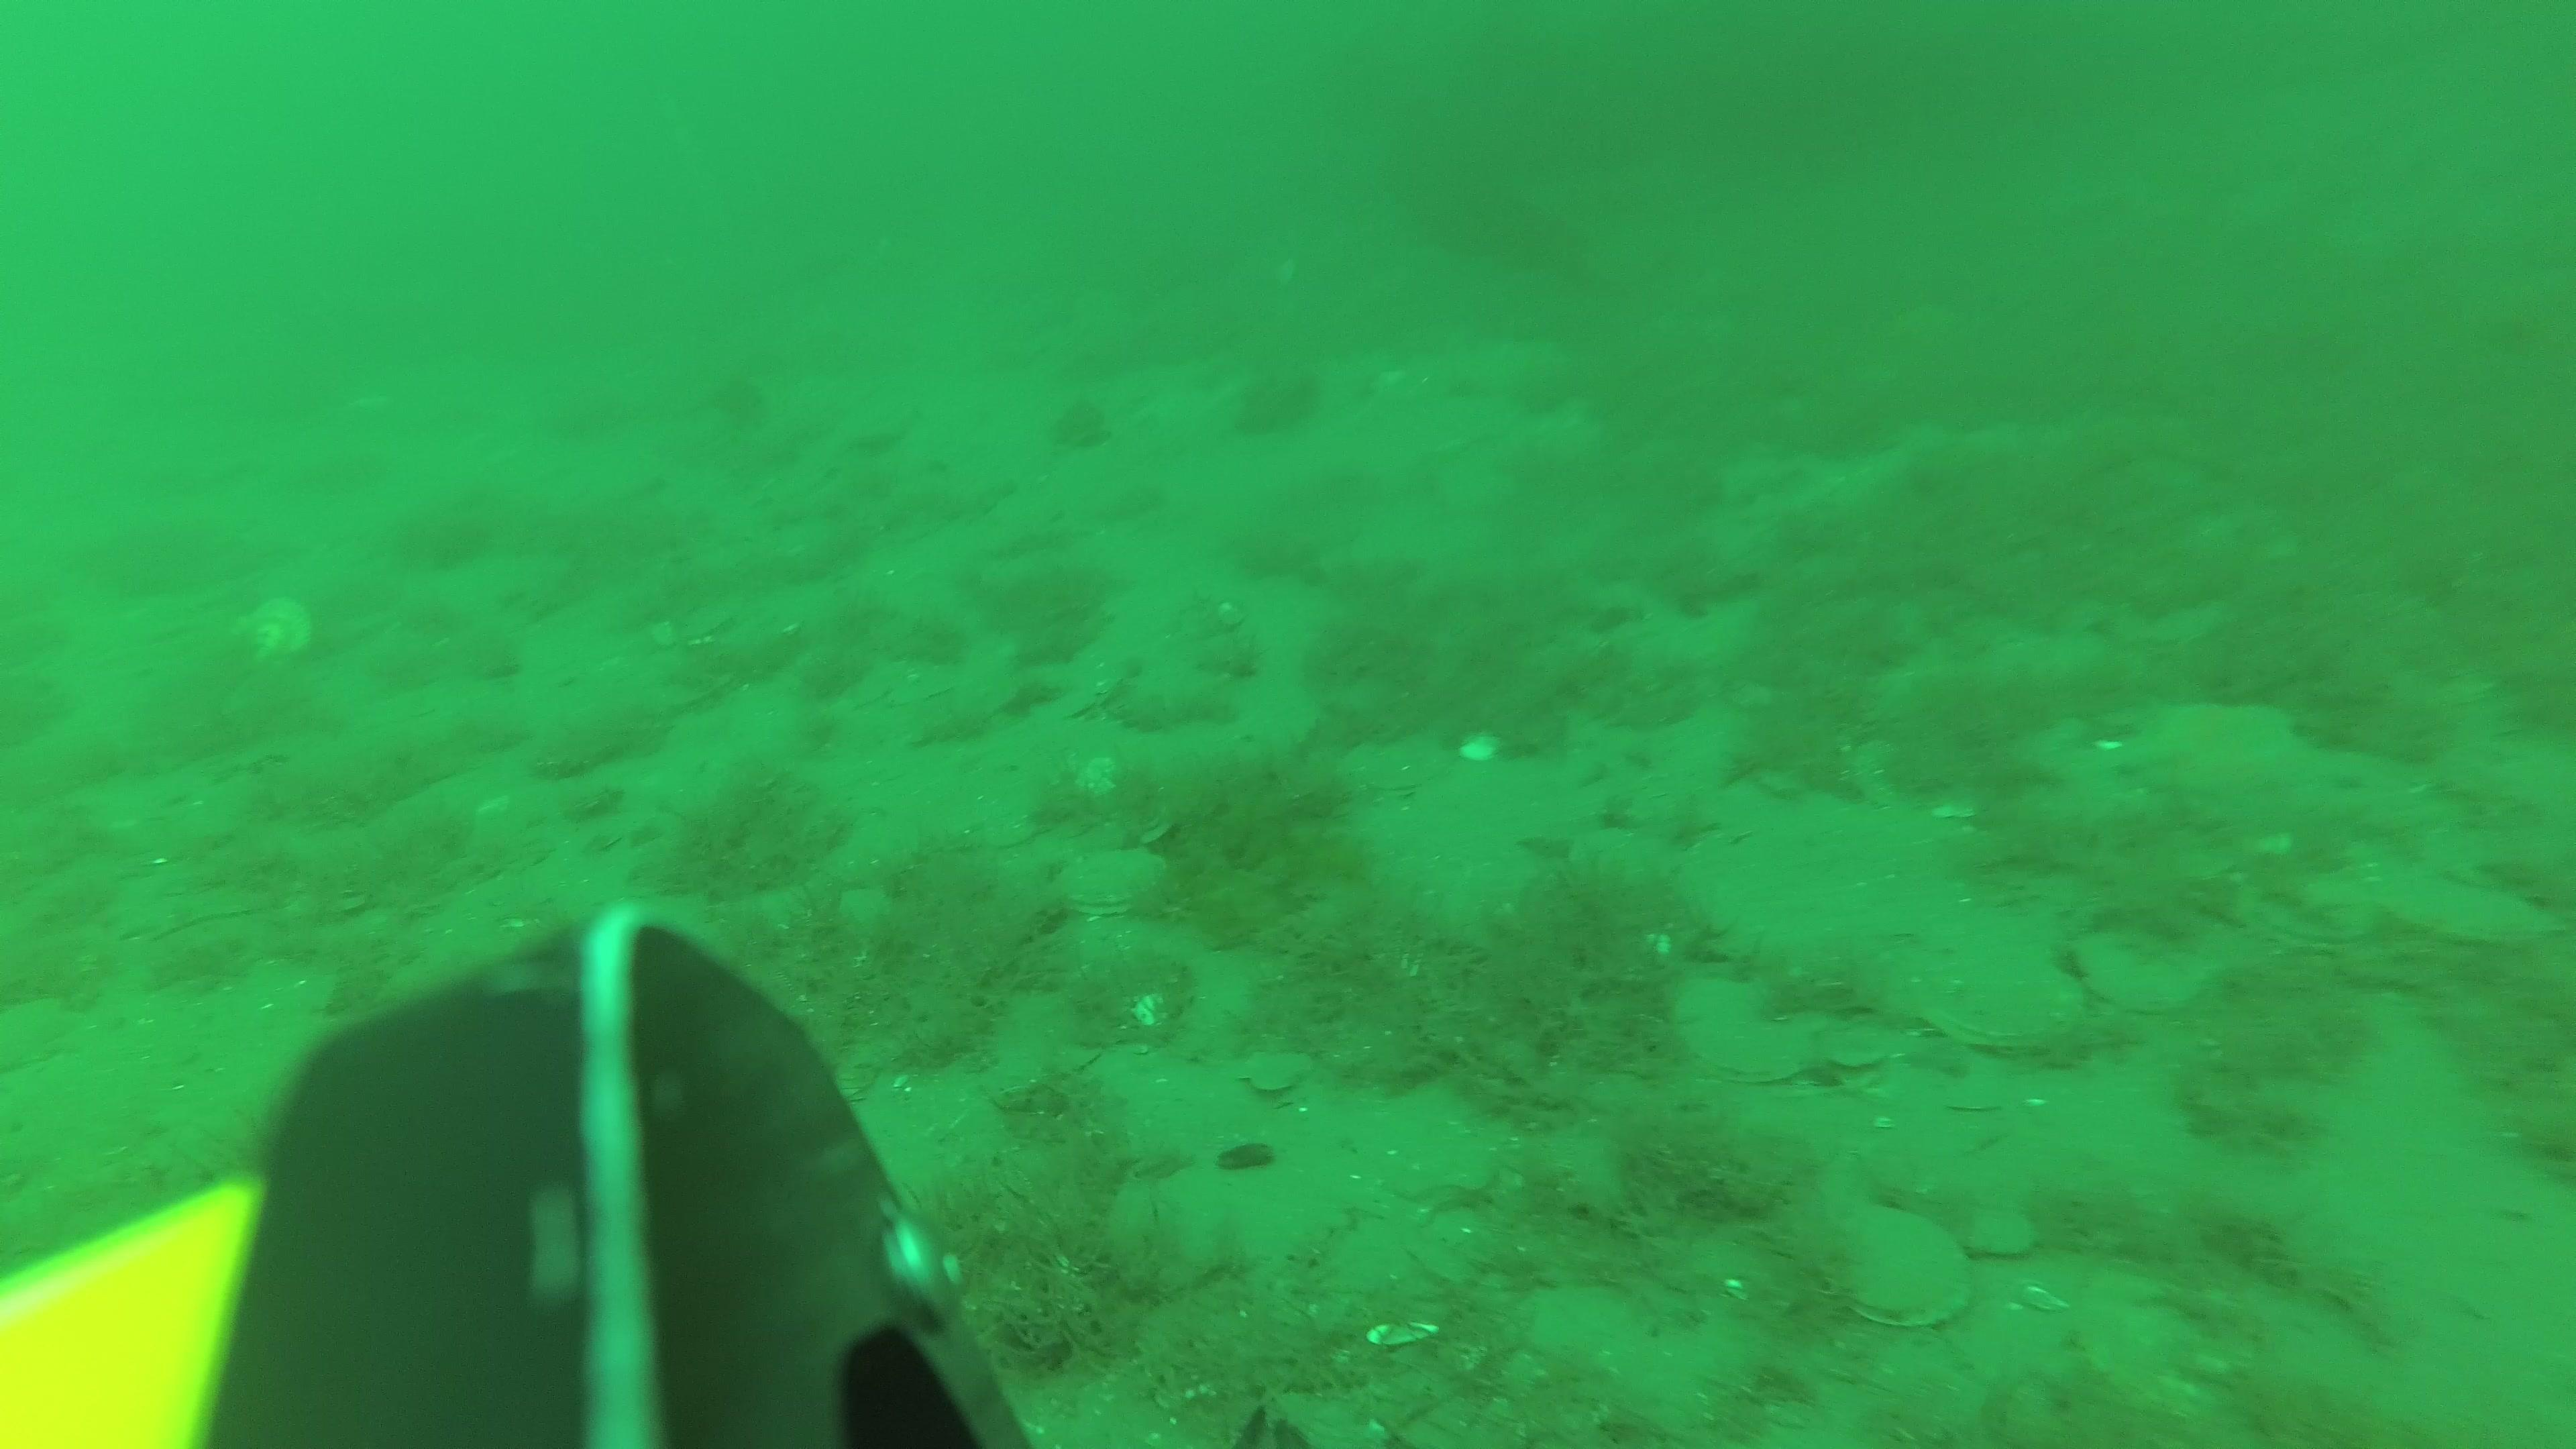scallop: (2077, 1269, 2250, 1428), (1815, 1201, 1969, 1327), (1923, 948, 2075, 1049), (2381, 860, 2542, 948), (1688, 1000, 1828, 1081), (2245, 878, 2383, 952), (2082, 932, 2206, 1012), (1062, 855, 1169, 922), (234, 594, 317, 669), (1964, 1205, 2040, 1260), (1238, 1047, 1313, 1097), (1835, 1042, 1891, 1072)
starfish: (2121, 697, 2302, 819)
